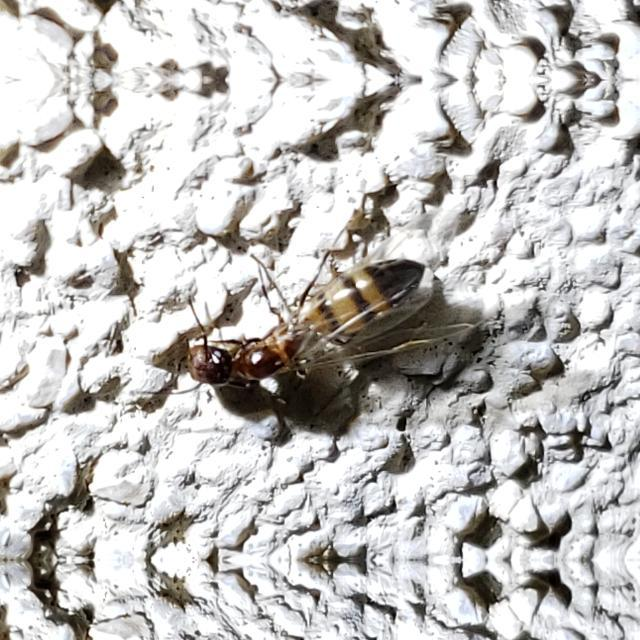Colobopsis: (154, 238, 442, 412)
